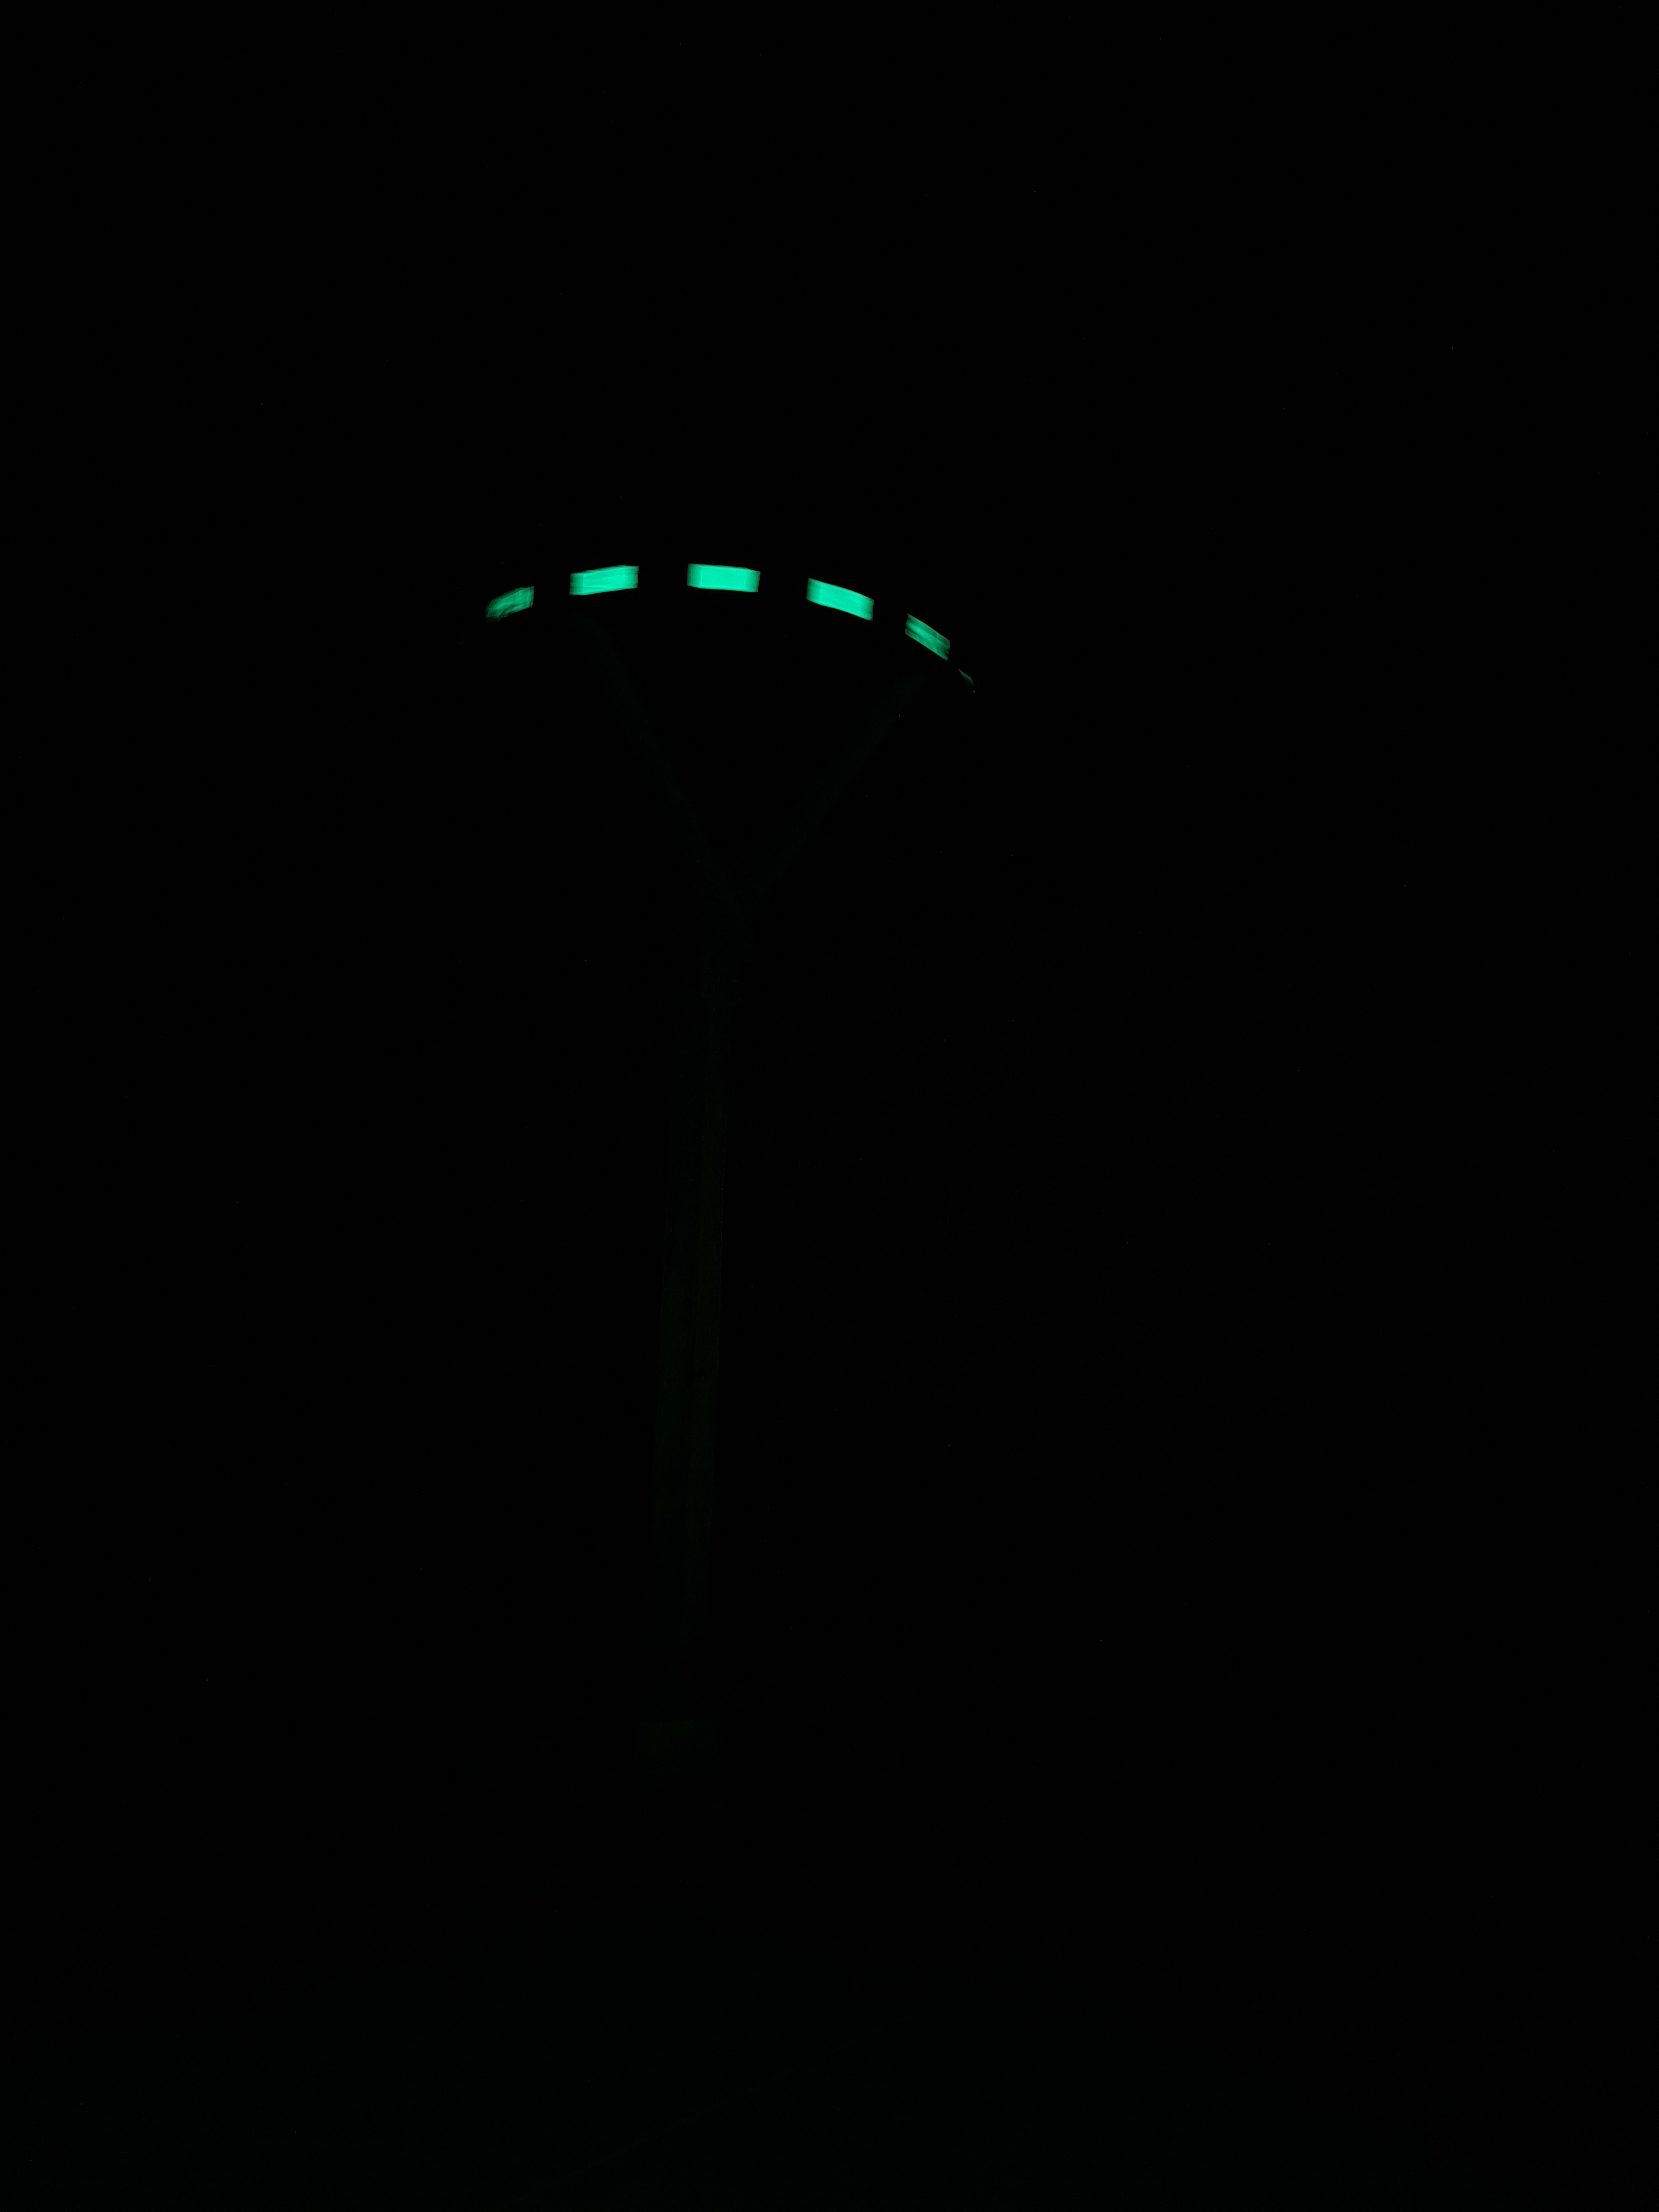hoop: (491, 547, 950, 660)
